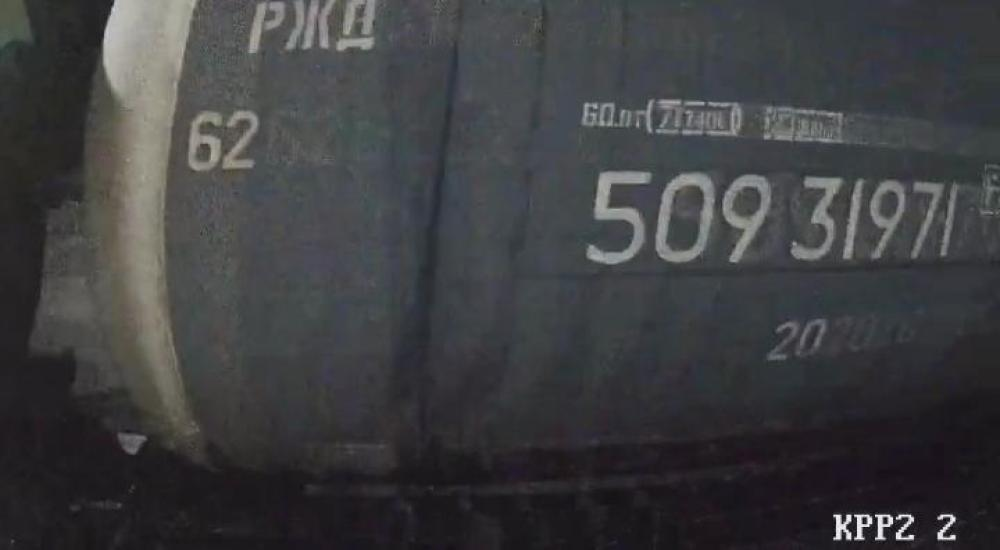Wagon-number: (578, 162, 964, 268)
